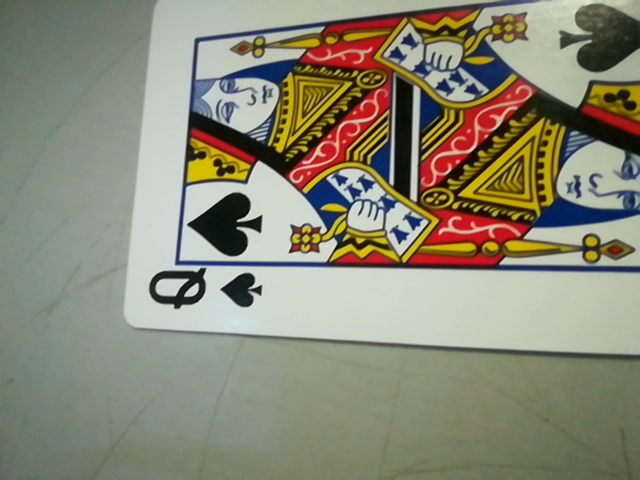ht q: (126, 256, 270, 325)
